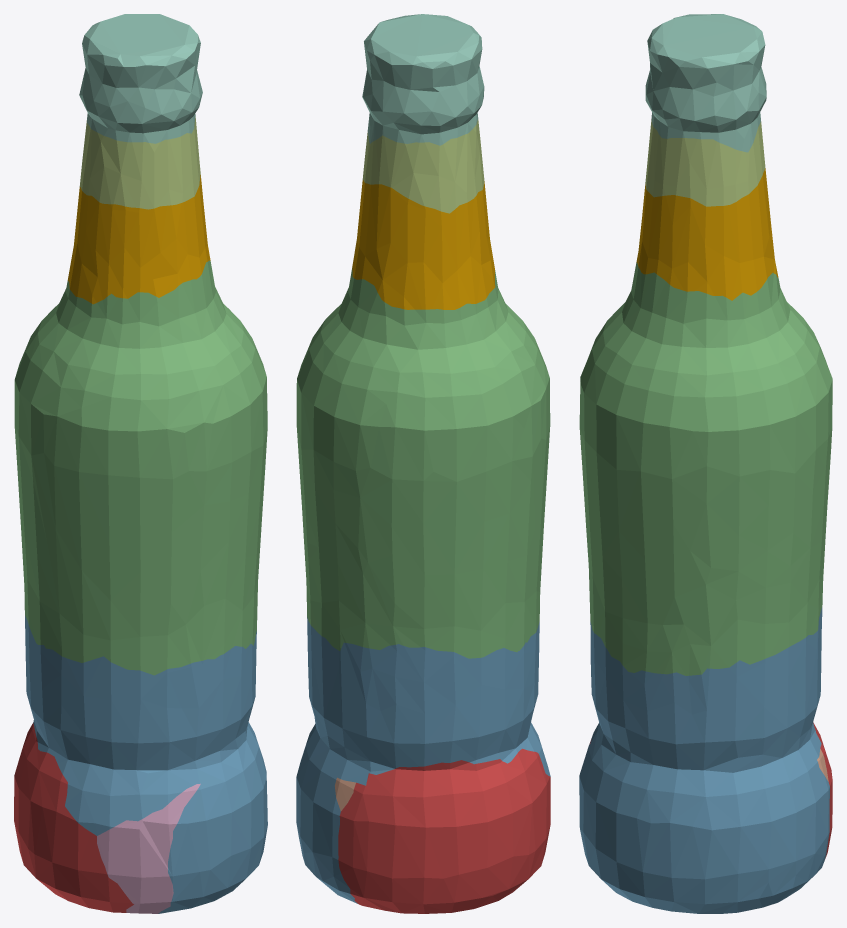
File: fractured_77_8pcs.glb
3 views of the same model, side by side, from view 1: azimuth 30°, elevation 25°; view 2: azimuth 150°, elevation 25°; view 3: azimuth 270°, elevation 25° (orthographic).
Visible parts, largest first — view 1: piece_3.obj, piece_2.obj, piece_4.obj, piece_0.obj, piece_1.obj, piece_5.obj, piece_6.obj; view 2: piece_3.obj, piece_2.obj, piece_1.obj, piece_0.obj, piece_4.obj, piece_5.obj; view 3: piece_3.obj, piece_2.obj, piece_4.obj, piece_0.obj, piece_5.obj.
Part boxes in pixels (x1,y1,x2,y2): piece_3.obj: [14, 260, 267, 675]; piece_2.obj: [25, 615, 267, 913]; piece_4.obj: [79, 14, 202, 143]; piece_0.obj: [67, 175, 210, 304]; piece_1.obj: [14, 723, 133, 912]; piece_5.obj: [79, 116, 200, 209]; piece_6.obj: [97, 783, 200, 913]; piece_3.obj: [296, 268, 550, 658]; piece_2.obj: [296, 617, 550, 903]; piece_1.obj: [338, 748, 550, 913]; piece_0.obj: [352, 180, 495, 309]; piece_4.obj: [362, 14, 484, 145]; piece_5.obj: [362, 119, 484, 213]; piece_3.obj: [579, 262, 832, 675]; piece_2.obj: [579, 607, 829, 913]; piece_4.obj: [645, 14, 766, 152]; piece_0.obj: [636, 168, 778, 300]; piece_5.obj: [645, 119, 765, 206].
Size of the model in its own units: 0.2746 by 1 by 0.2742.
